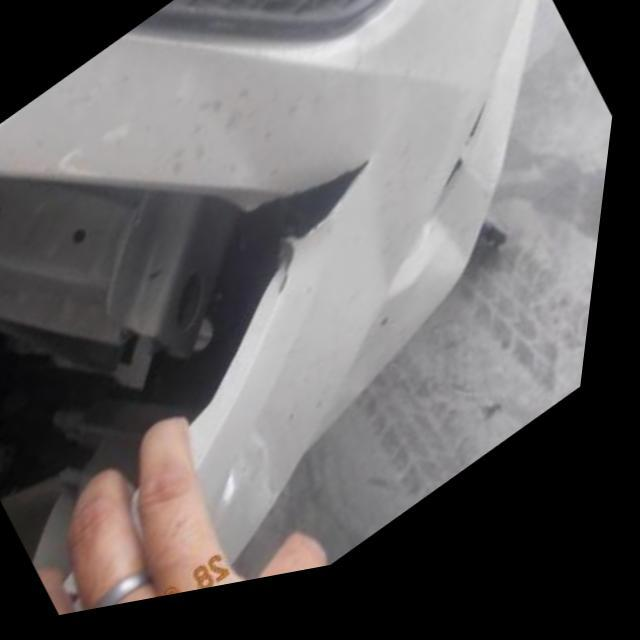dislocated part: (230, 123, 402, 307)
